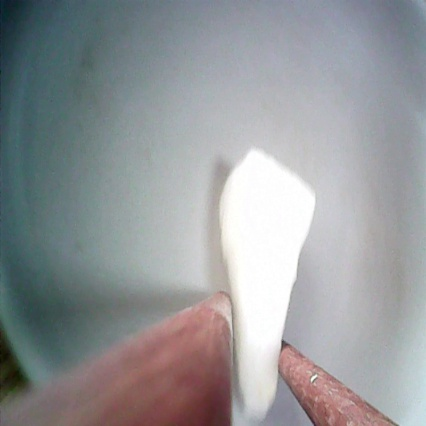white_chinese-yam: (212, 145, 323, 426)
